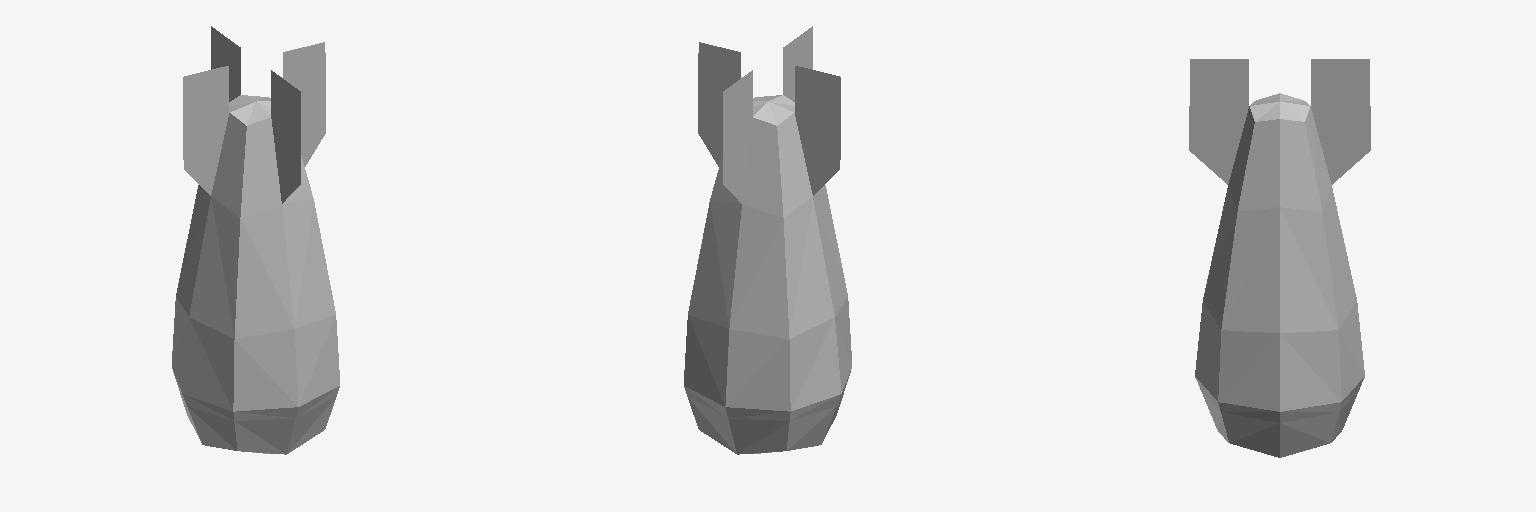
The model's file is bombModel.obj.
3 views of the same model, side by side, from view 1: azimuth 30°, elevation 25°; view 2: azimuth 150°, elevation 25°; view 3: azimuth 270°, elevation 25° (orthographic).
Visible parts, largest first — view 1: Cube; view 2: Cube; view 3: Cube.
Part boxes in pixels (bbox=[...]): Cube: bbox=[172, 26, 339, 454]; Cube: bbox=[684, 26, 851, 454]; Cube: bbox=[1189, 59, 1370, 457].
Size of the model in its own units: 1.68 by 4.29 by 1.79.